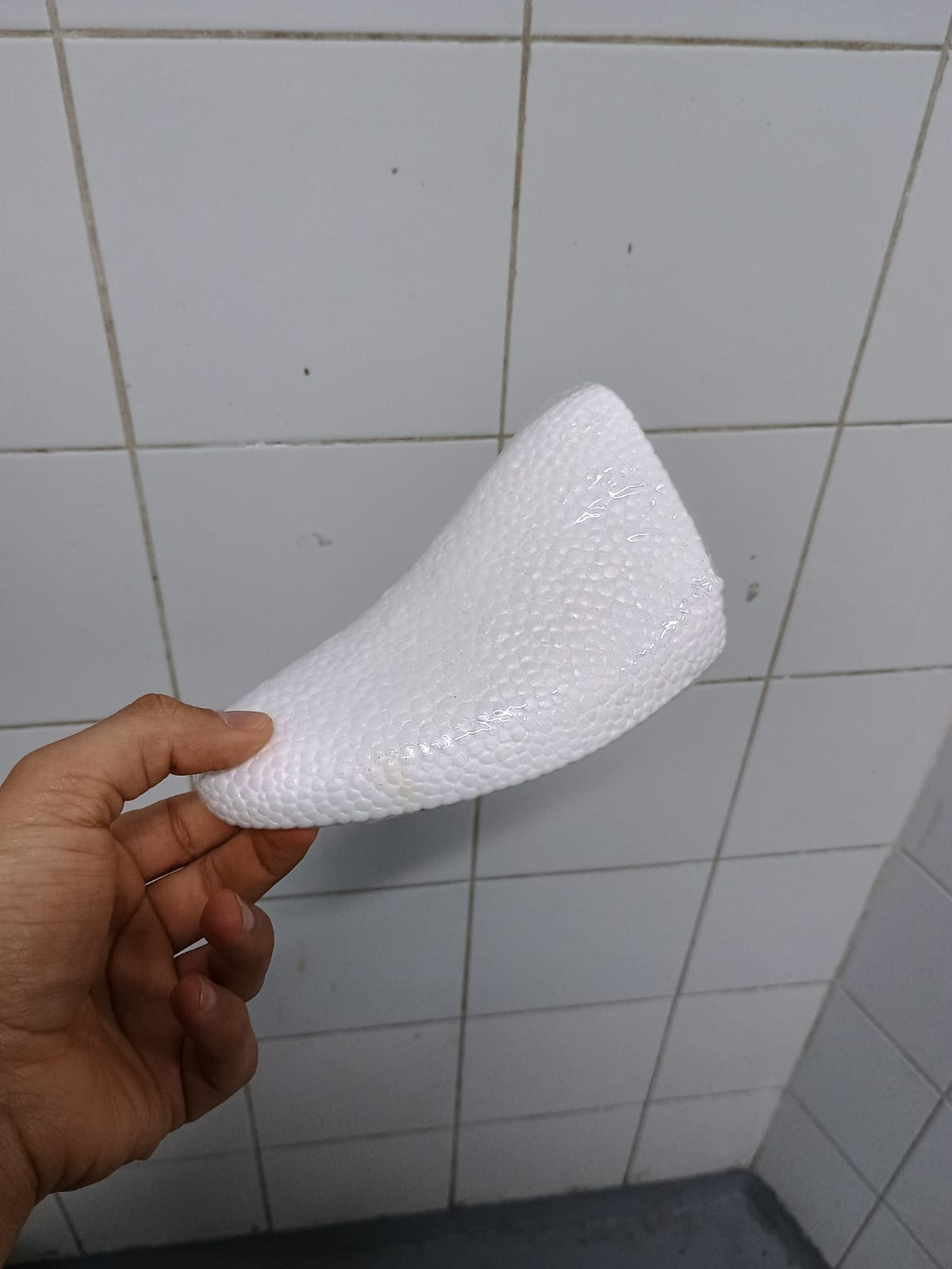Ordinario: (191, 382, 729, 828)
